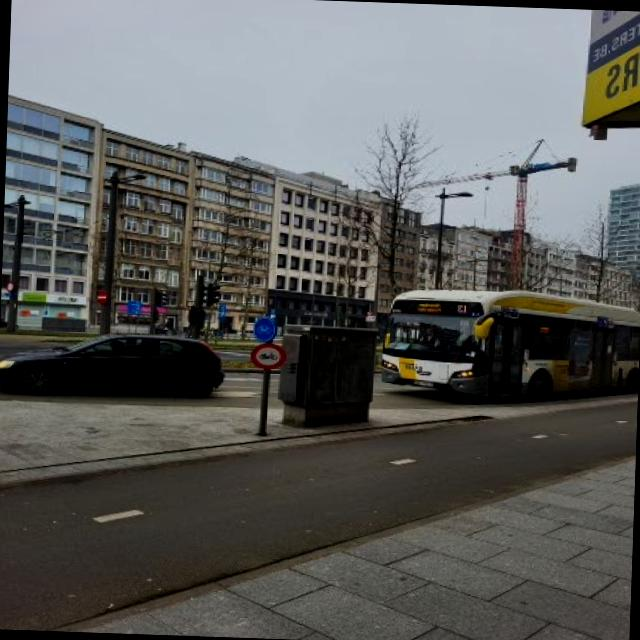bus-number: (454, 303, 468, 314)
